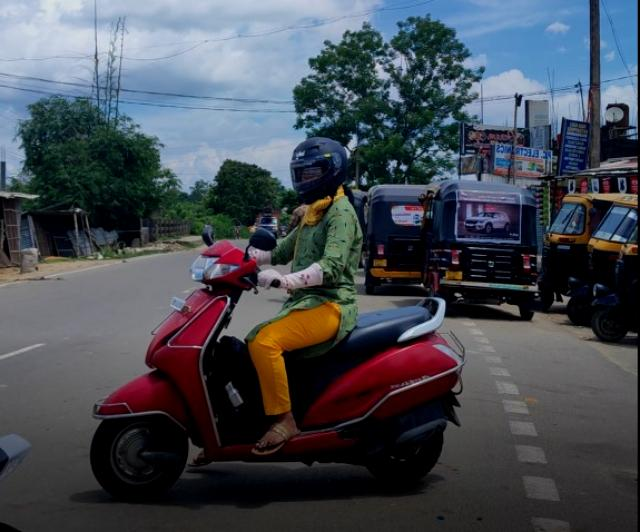licensePlate: (164, 293, 190, 312)
motorcycle: (87, 133, 464, 502)
withHelmet: (280, 136, 353, 205)
